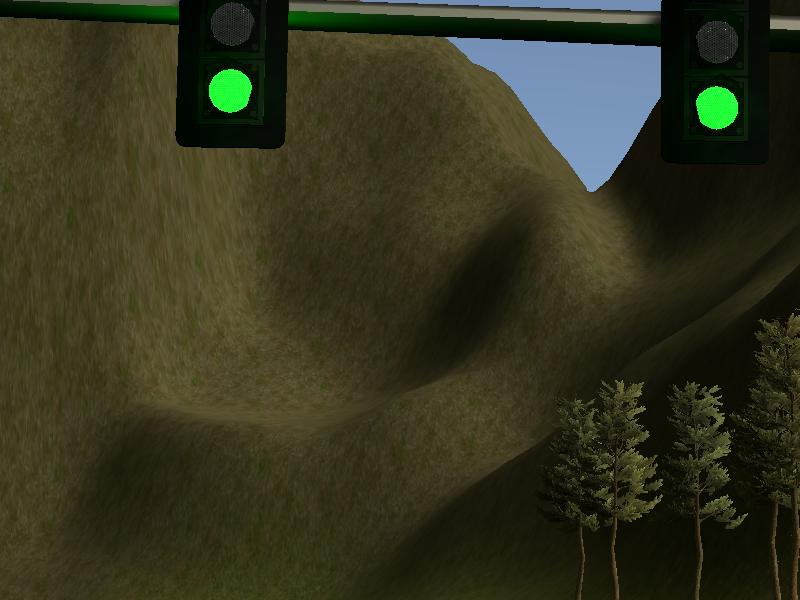Green: (658, 1, 775, 167), (173, 1, 291, 154)
